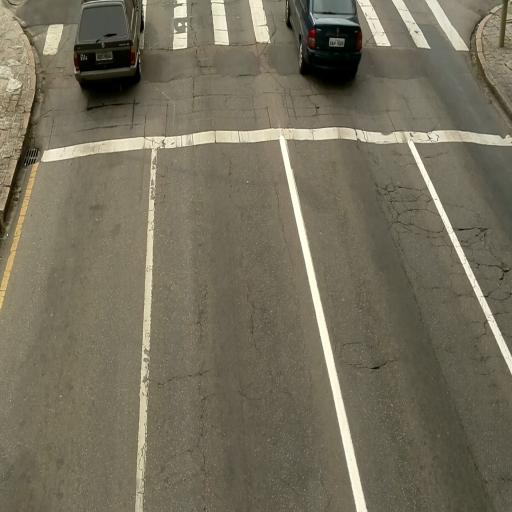car: (73, 0, 145, 90), (286, 2, 362, 80)
